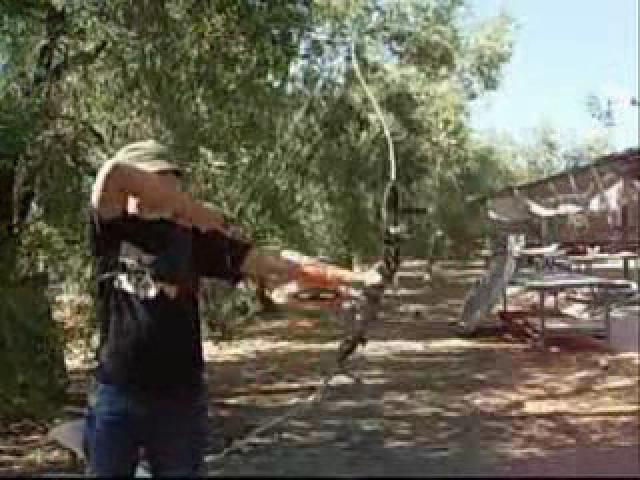I: (63, 125, 375, 480)
